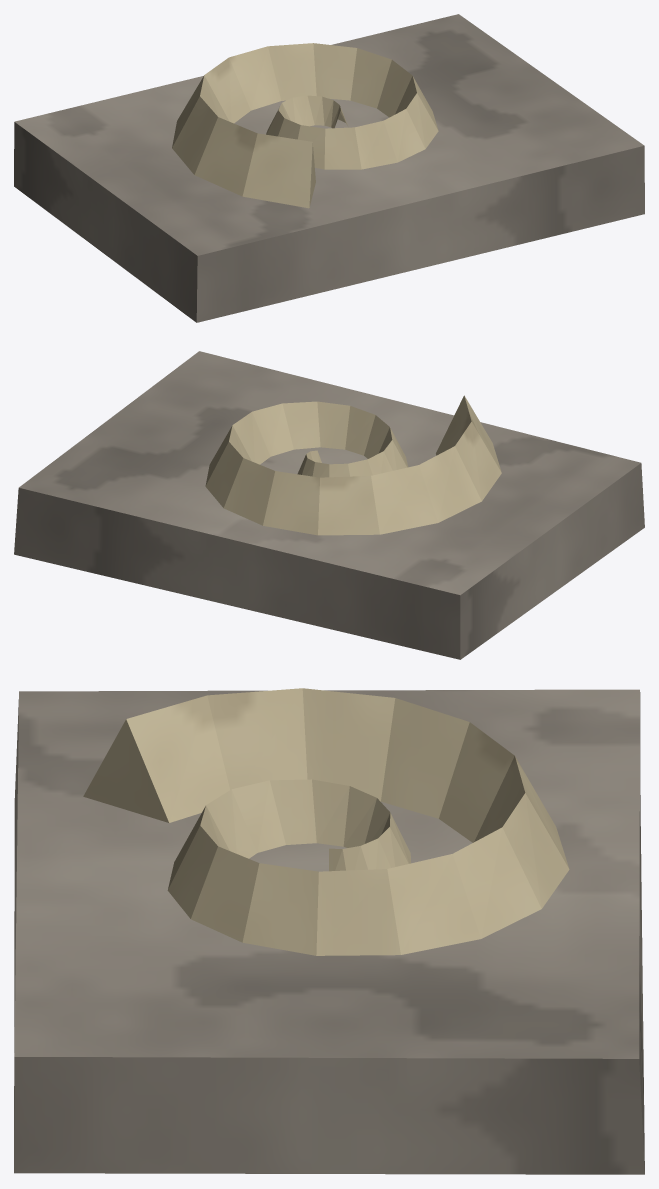
File: fossil.glb
3 views of the same model, one above another, from view 1: azimuth 30°, elevation 25°; view 2: azimuth 150°, elevation 25°; view 3: azimuth 270°, elevation 25° (orthographic). The views are drawn at different scales.
Visible parts, largest first — view 1: Fossil; view 2: Fossil; view 3: Fossil.
Boxes of the visible parts, <box> form: Fossil: <box>14,14,644,322</box>; Fossil: <box>14,351,644,659</box>; Fossil: <box>14,688,644,1174</box>.
Size of the model in its own units: 0.3937 by 0.1021 by 0.282.
Materials: 2 (2 with a texture image).
